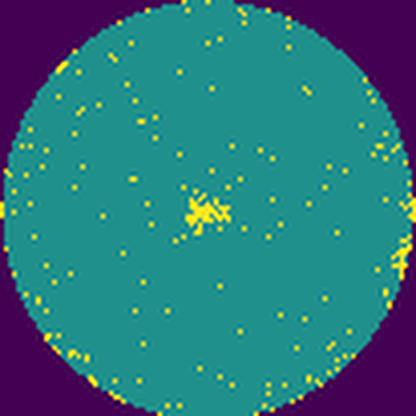Center: (186, 188, 230, 241)
